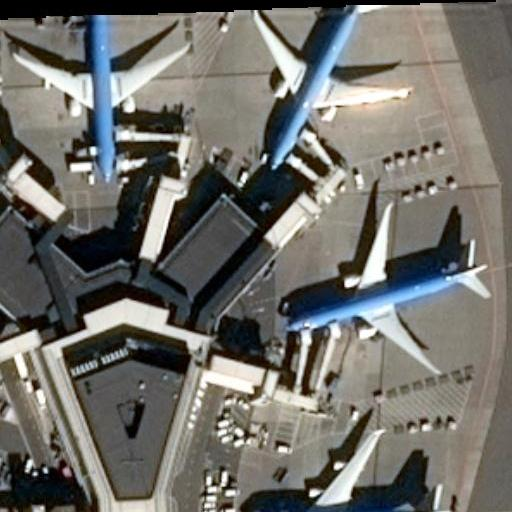Aircraft: (279, 196, 489, 379), (9, 8, 196, 175), (245, 0, 412, 173), (242, 414, 453, 512)
